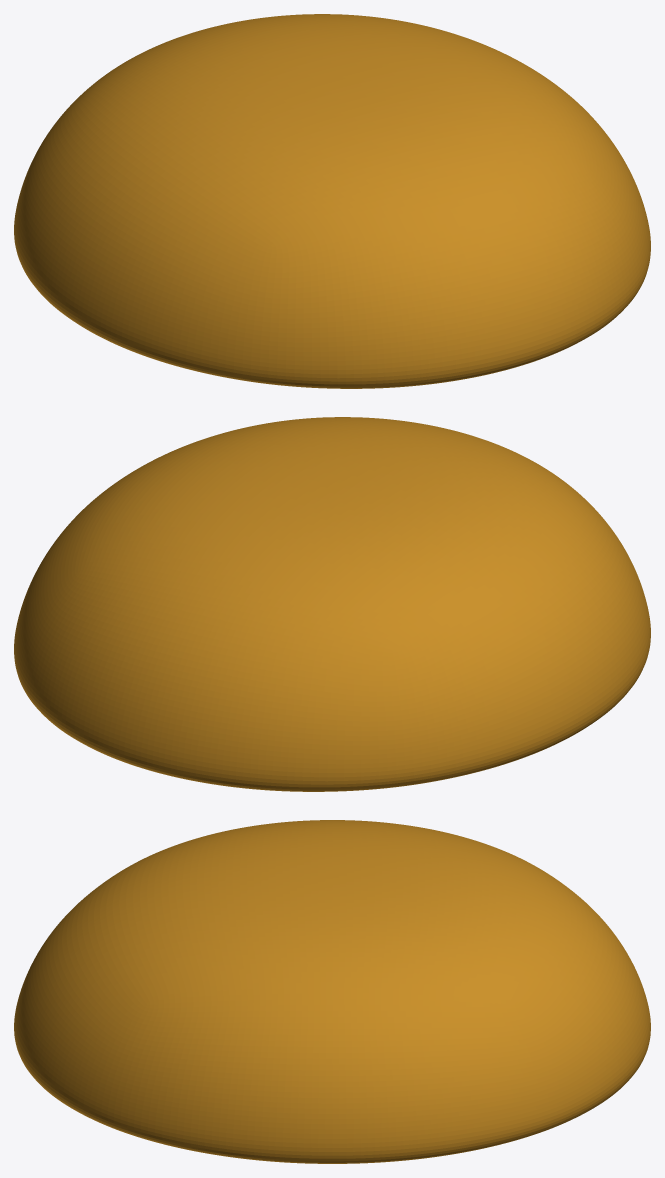
Rendered from topbun.fbx.
3 renders of one model, top to bottom at view 1: azimuth 30°, elevation 25°; view 2: azimuth 150°, elevation 25°; view 3: azimuth 270°, elevation 25°, orthographic. The views are drawn at different scales.
Parts seen in each view (by area): view 1: Roundcube.002; view 2: Roundcube.002; view 3: Roundcube.002.
Part boxes in pixels (x1,y1,x2,y2): Roundcube.002: (14, 14, 650, 388); Roundcube.002: (14, 417, 650, 791); Roundcube.002: (14, 820, 650, 1163).
Bounding box in the file's own units: 183 × 58.57 × 197.
